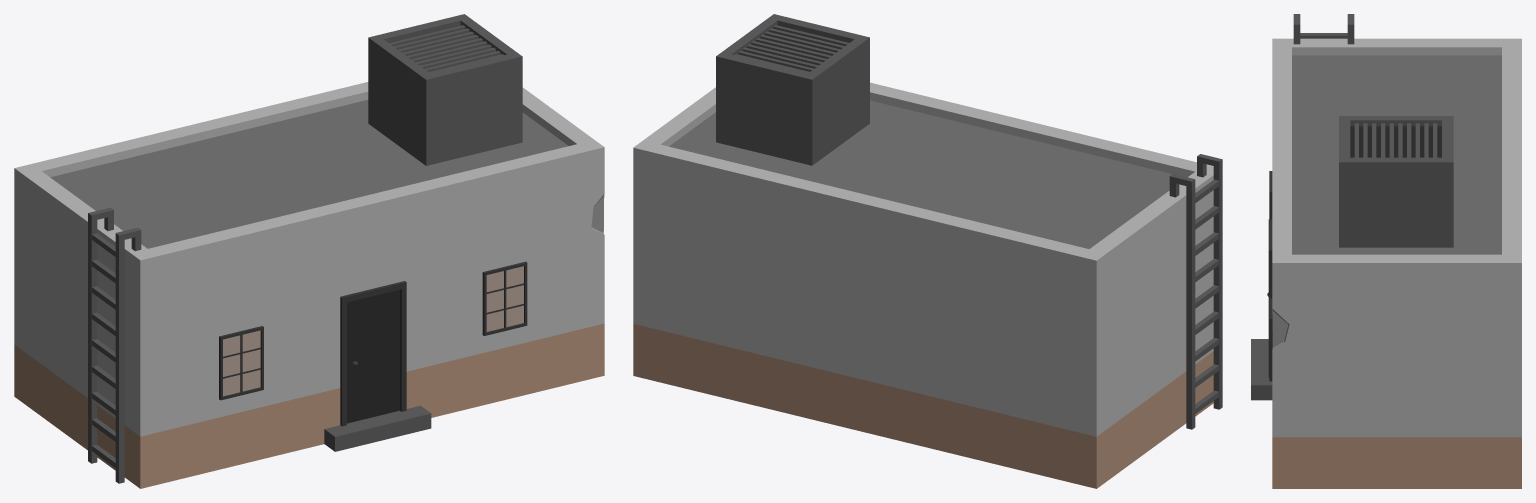
The model's file is Building_05.fbx.
The picture shows the model from 3 angles, left to right: view 1: azimuth 30°, elevation 25°; view 2: azimuth 150°, elevation 25°; view 3: azimuth 270°, elevation 25°; orthographic projection.
Parts seen in each view (by area): view 1: Building_05; view 2: Building_05; view 3: Building_05.
Part boxes in pixels (<box>): Building_05: <box>14,14,604,488</box>; Building_05: <box>633,14,1222,488</box>; Building_05: <box>1251,14,1521,488</box>.
Bounding box in the file's own units: 870 × 537 × 434.
